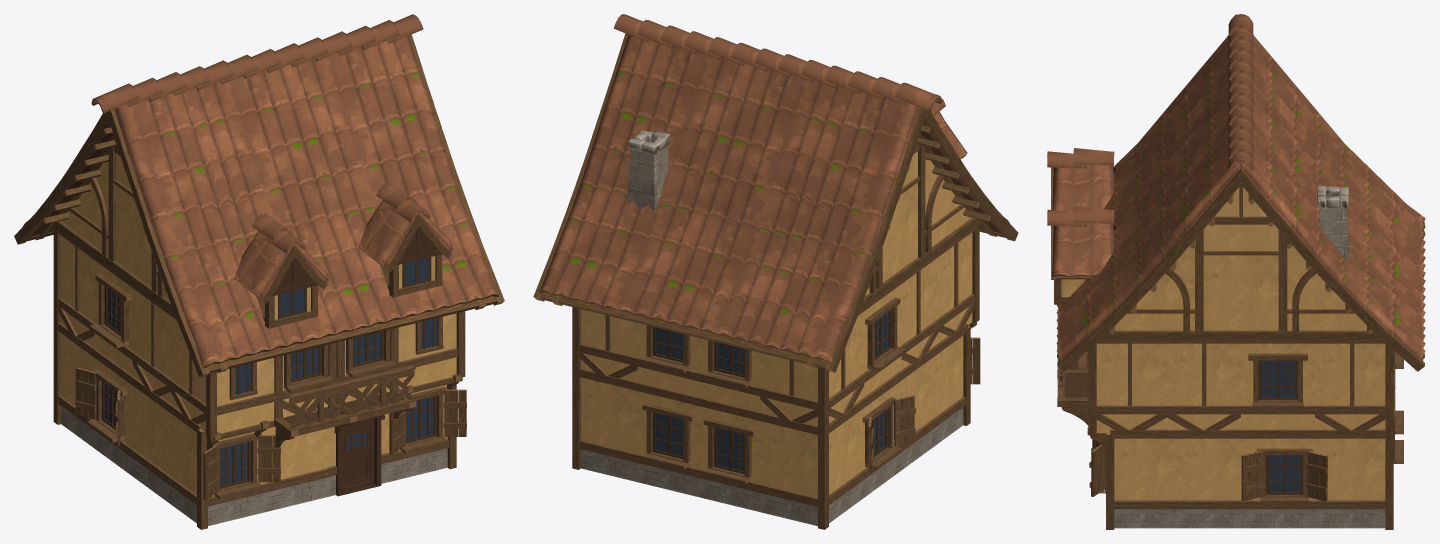
Rendered from townhouse_balcony.glb.
3 renders of one model, left to right at view 1: azimuth 30°, elevation 25°; view 2: azimuth 150°, elevation 25°; view 3: azimuth 270°, elevation 25°, orthographic. The views are drawn at different scales.
Parts seen in each view (by area): view 1: Roof_RoundTiles_8x8.079, Roof_Front_Brick8.080, Roof_Dormer_RoundTile.083, Roof_Dormer_RoundTile.082, Wall_Plaster_Straight_Base.004, Wall_Plaster_Straight_Base.021, Wall_Plaster_Straight+upper.061, Wall_Plaster_Straight+upper.058, Wall_Plaster_Straight_Base.022, Wall_Plaster_Window_Thin_Round+upper.044, Wall_Plaster_Window_Thin_Round+upper.050, Wall_Plaster_Straight_Base.017 (+29 smaller); view 2: Roof_RoundTiles_8x8.079, Roof_Front_Brick8.080, Wall_Plaster_Straight_Base.011, Wall_Plaster_Straight_Base.016, Wall_Plaster_Window_Wide_Flat.012, Wall_Plaster_Window_Wide_Flat.014, Wall_Plaster_Straight+upper.052, Wall_Plaster_Straight+upper.061, Wall_Plaster_Straight_Base.022, Wall_Plaster_Straight+upper.057, Wall_Plaster_Straight+upper.062, Wall_Plaster_Straight_Base.017 (+21 smaller); view 3: Roof_RoundTiles_8x8.079, Roof_Front_Brick8.081, Wall_Plaster_Straight+upper.064, Wall_Plaster_Straight_Base.024, Wall_Plaster_Straight_Base.023, Wall_Plaster_Straight+upper.063, Wall_Plaster_Straight+upper.067, Wall_Plaster_Straight_Base.028, Roof_Dormer_RoundTile.083, Wall_Plaster_Window_Wide_Flat+upper.065, Roof_Dormer_RoundTile.082, Wall_Plaster_Window_Wide_Flat.025 (+11 smaller).
Boxes of the visible parts, bbox=[...] form: Roof_RoundTiles_8x8.079: bbox=[14, 14, 504, 377]; Roof_Front_Brick8.080: bbox=[42, 127, 177, 321]; Roof_Dormer_RoundTile.083: bbox=[358, 182, 453, 297]; Roof_Dormer_RoundTile.082: bbox=[234, 213, 328, 328]; Wall_Plaster_Straight_Base.004: bbox=[264, 426, 328, 512]; Wall_Plaster_Straight_Base.021: bbox=[128, 373, 166, 500]; Wall_Plaster_Straight+upper.061: bbox=[132, 285, 173, 404]; Wall_Plaster_Straight+upper.058: bbox=[58, 231, 96, 348]; Wall_Plaster_Straight_Base.022: bbox=[163, 400, 201, 523]; Wall_Plaster_Window_Thin_Round+upper.044: bbox=[217, 358, 275, 433]; Wall_Plaster_Window_Thin_Round+upper.050: bbox=[398, 313, 458, 389]; Wall_Plaster_Straight_Base.017: bbox=[58, 323, 94, 448]; Roof_RoundTiles_8x8.079: bbox=[533, 14, 1018, 372]; Roof_Front_Brick8.080: bbox=[857, 125, 990, 317]; Wall_Plaster_Straight_Base.011: bbox=[579, 368, 639, 482]; Wall_Plaster_Straight_Base.016: bbox=[760, 412, 817, 526]; Wall_Plaster_Window_Wide_Flat.012: bbox=[637, 382, 700, 497]; Wall_Plaster_Window_Wide_Flat.014: bbox=[699, 397, 761, 512]; Wall_Plaster_Straight+upper.052: bbox=[579, 309, 639, 382]; Wall_Plaster_Straight+upper.061: bbox=[899, 254, 939, 371]; Wall_Plaster_Straight_Base.022: bbox=[930, 324, 967, 449]; Wall_Plaster_Straight+upper.057: bbox=[760, 353, 817, 425]; Wall_Plaster_Straight+upper.062: bbox=[936, 228, 974, 343]; Wall_Plaster_Straight_Base.017: bbox=[829, 401, 861, 523]; Roof_RoundTiles_8x8.079: bbox=[1056, 14, 1425, 371]; Roof_Front_Brick8.081: bbox=[1099, 185, 1382, 340]; Wall_Plaster_Straight+upper.064: bbox=[1167, 340, 1240, 430]; Wall_Plaster_Straight_Base.024: bbox=[1180, 429, 1249, 528]; Wall_Plaster_Straight_Base.023: bbox=[1110, 429, 1179, 528]; Wall_Plaster_Straight+upper.063: bbox=[1096, 340, 1166, 433]; Wall_Plaster_Straight+upper.067: bbox=[1315, 340, 1385, 430]; Wall_Plaster_Straight_Base.028: bbox=[1319, 429, 1385, 528]; Roof_Dormer_RoundTile.083: bbox=[1047, 206, 1115, 304]; Wall_Plaster_Window_Wide_Flat+upper.065: bbox=[1241, 340, 1314, 429]; Roof_Dormer_RoundTile.082: bbox=[1047, 148, 1115, 211]; Wall_Plaster_Window_Wide_Flat.025: bbox=[1249, 429, 1319, 528].
Bounding box in the file's own units: 10.33 × 12.13 × 10.84.
6 materials, 5 textured.
